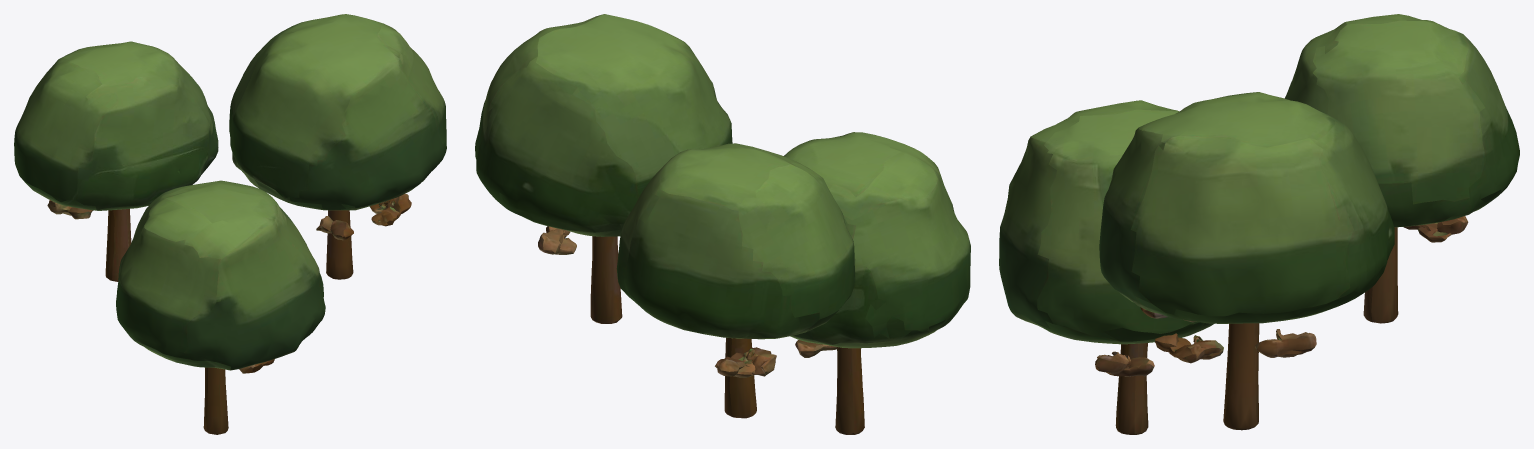
Rendered from forest_grove.glb.
3 views of the same model, side by side, from view 1: azimuth 30°, elevation 25°; view 2: azimuth 150°, elevation 25°; view 3: azimuth 270°, elevation 25° (orthographic). The views are drawn at different scales.
Parts seen in each view (by area): view 1: geometry_0; view 2: geometry_0; view 3: geometry_0.
Part boxes in pixels (<box>): geometry_0: <box>14,14,446,434</box>; geometry_0: <box>475,14,970,434</box>; geometry_0: <box>999,14,1519,434</box>.
Size of the model in its own units: 5.67 by 5 by 5.6.
Materials: 1 (1 with a texture image).
